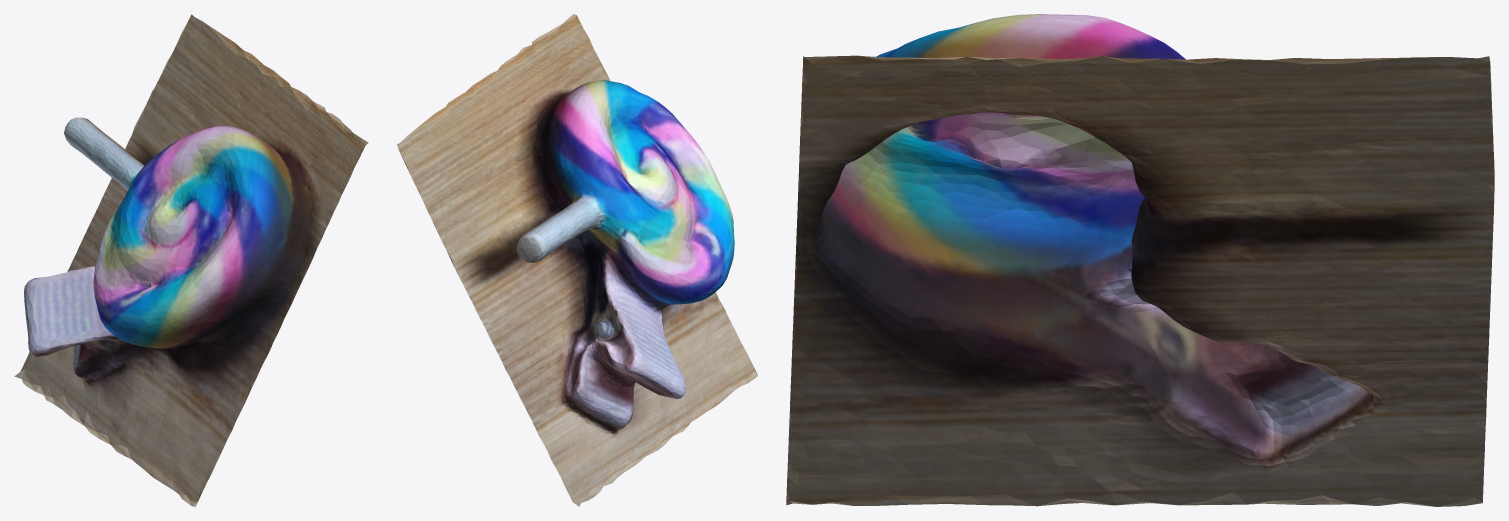
Rendered from 26 Apr 2023.obj.
3 views of the same model, side by side, from view 1: azimuth 30°, elevation 25°; view 2: azimuth 150°, elevation 25°; view 3: azimuth 270°, elevation 25° (orthographic). The views are drawn at different scales.
Bounding box in the file's own units: 0.2476 × 0.331 × 0.3445.
